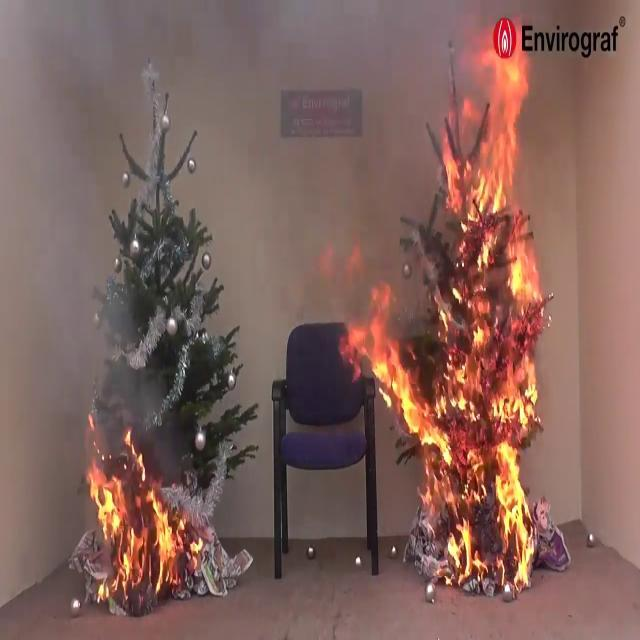Fire: (348, 40, 550, 591), (84, 432, 194, 598)
Smoke: (0, 0, 168, 450)
